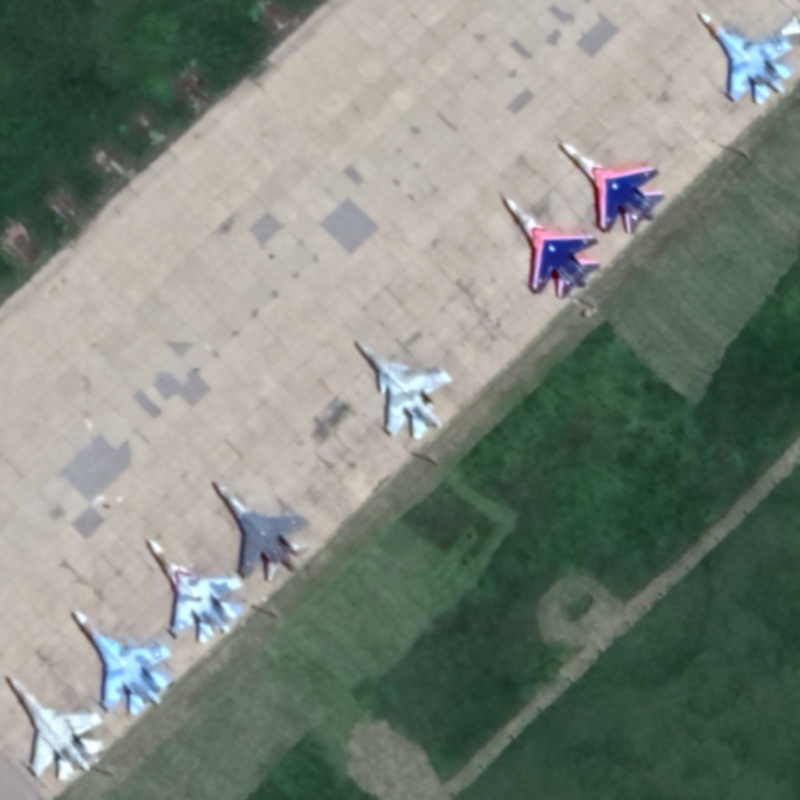A1: (71, 608, 177, 717), (500, 194, 603, 301), (146, 537, 248, 645), (6, 674, 106, 784), (557, 140, 668, 237), (695, 9, 797, 107), (214, 481, 311, 584)
A19: (352, 338, 455, 442)
